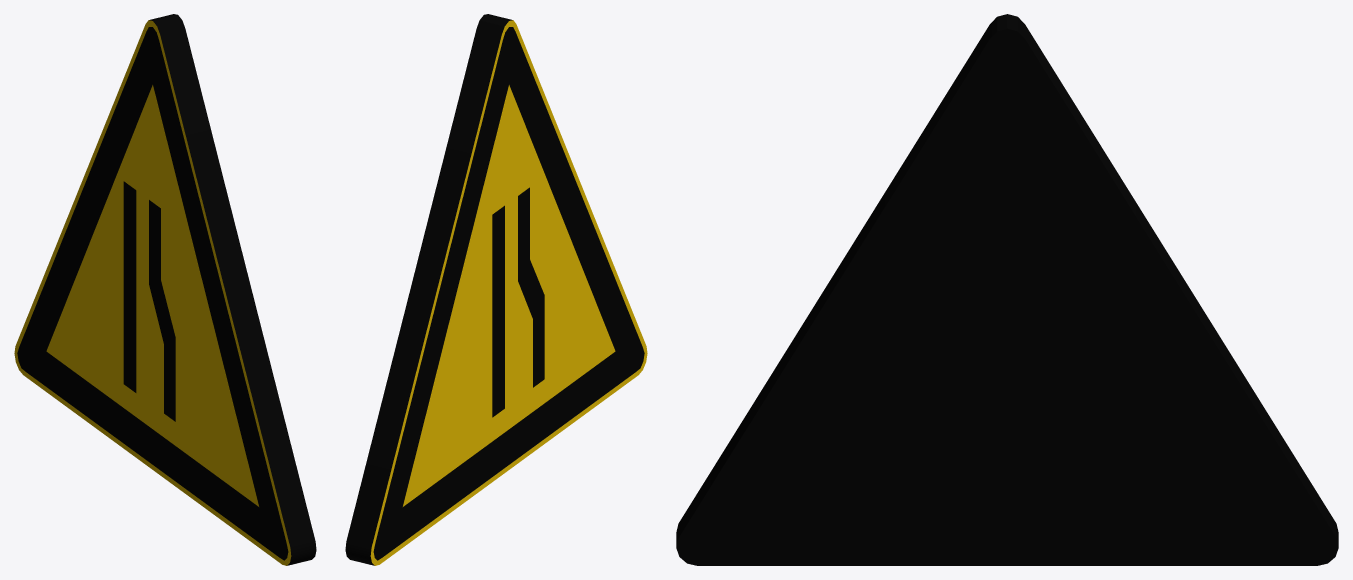
Rendered from Narrow_Road_Right.fbx.
The picture shows the model from 3 angles, left to right: view 1: azimuth 30°, elevation 25°; view 2: azimuth 150°, elevation 25°; view 3: azimuth 270°, elevation 25°; orthographic projection. The views are drawn at different scales.
Visible parts, largest first — view 1: Narrow_Road_Right; view 2: Narrow_Road_Right; view 3: Narrow_Road_Right.
Part boxes in pixels (x1=…): Narrow_Road_Right: x1=14, y1=14, x2=316, y2=565; Narrow_Road_Right: x1=345, y1=14, x2=647, y2=565; Narrow_Road_Right: x1=676, y1=14, x2=1338, y2=565.
Size of the model in its own units: 0.075 by 1.02 by 1.14.
